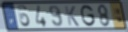4: (35, 5, 48, 28)
6: (17, 5, 31, 29)
8: (97, 4, 111, 28)
9: (49, 5, 65, 28)
G: (80, 4, 97, 28)
K: (64, 5, 81, 28)
